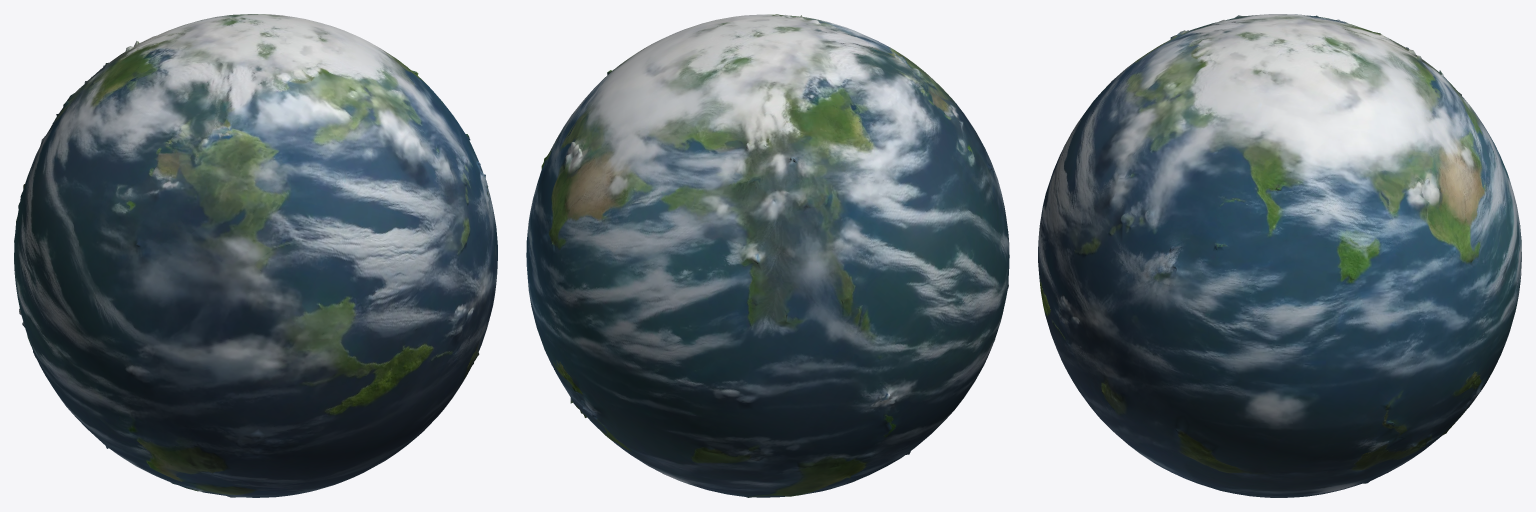
Rendered from normal_planet_2.glb.
3 renders of one model, left to right at view 1: azimuth 30°, elevation 25°; view 2: azimuth 150°, elevation 25°; view 3: azimuth 270°, elevation 25°, orthographic.
Parts seen in each view (by area): view 1: Mesh_0.039; view 2: Mesh_0.039; view 3: Mesh_0.039.
Boxes of the visible parts, box(x1,y1,x2,y2) form: Mesh_0.039: box(14, 14, 497, 497); Mesh_0.039: box(526, 14, 1009, 497); Mesh_0.039: box(1038, 14, 1521, 497).
Size of the model in its own units: 2 by 2 by 2.
1 material, 1 textured.
